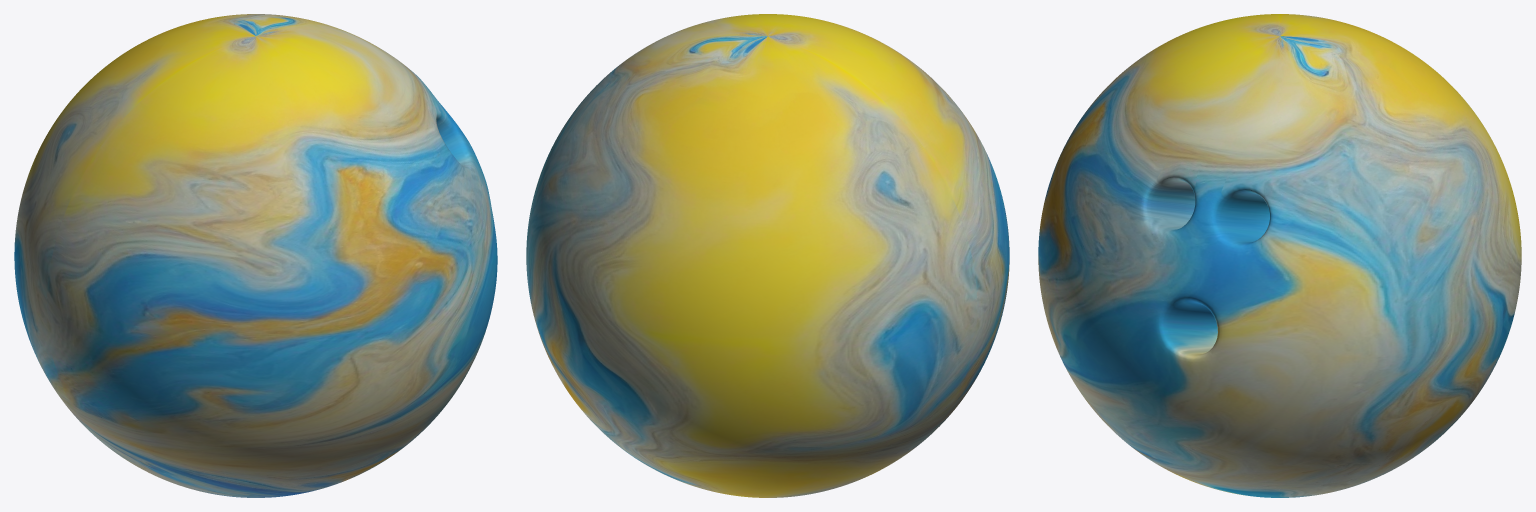
The model's file is bowling ball 2.fbx.
3 views of the same model, side by side, from view 1: azimuth 30°, elevation 25°; view 2: azimuth 150°, elevation 25°; view 3: azimuth 270°, elevation 25° (orthographic).
Visible parts, largest first — view 1: Sphere; view 2: Sphere; view 3: Sphere.
Boxes of the visible parts, x1=… form: Sphere: x1=14, y1=14, x2=497, y2=497; Sphere: x1=526, y1=14, x2=1009, y2=497; Sphere: x1=1038, y1=14, x2=1521, y2=497.
Size of the model in its own units: 199 by 200 by 199.
Materials: 1 (1 with a texture image).
